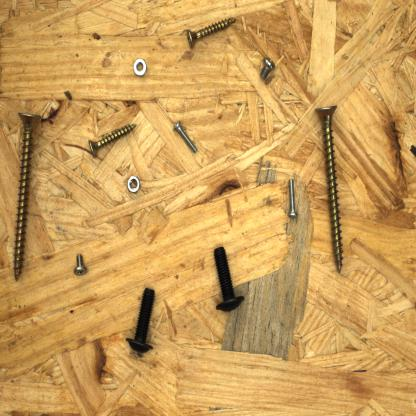screw: (312, 101, 346, 277), (11, 110, 44, 284), (211, 244, 248, 316), (122, 286, 158, 356), (87, 120, 140, 160), (184, 14, 238, 51), (171, 116, 200, 156), (286, 177, 301, 221), (258, 53, 277, 84), (72, 251, 90, 278)
